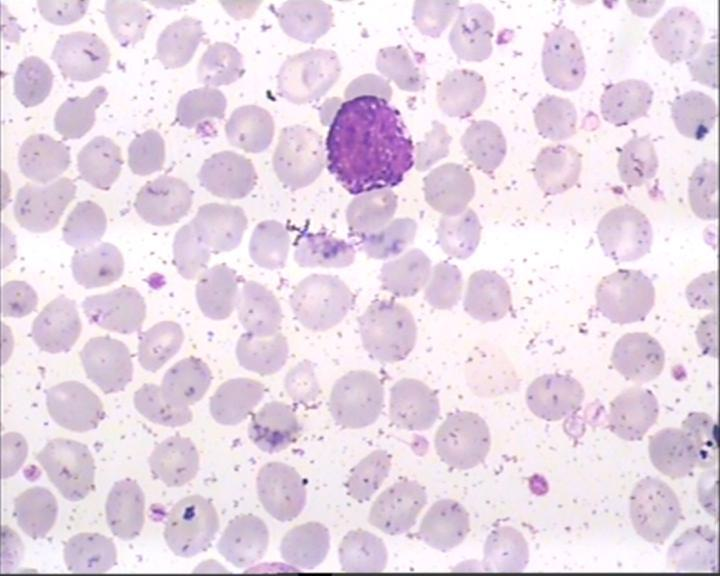baso: (317, 92, 423, 196)
